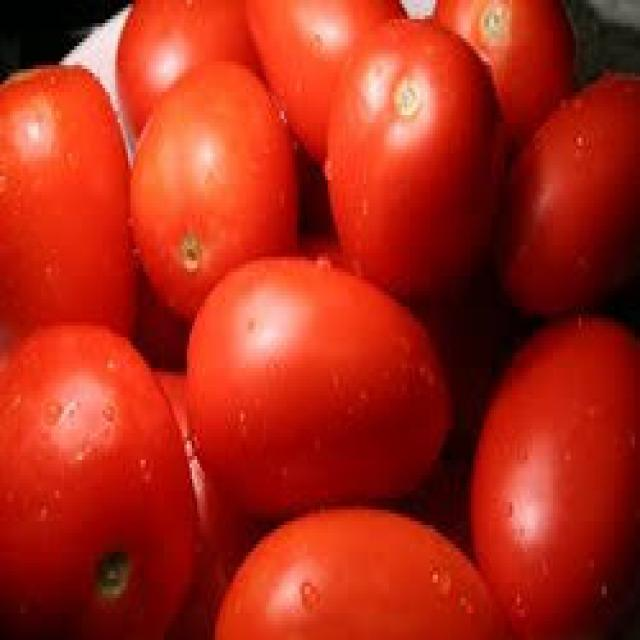Fresh_tomato: (176, 296, 466, 524), (5, 358, 215, 640), (337, 16, 498, 298), (509, 322, 640, 636), (2, 50, 127, 354), (136, 106, 297, 289), (131, 6, 250, 109)
